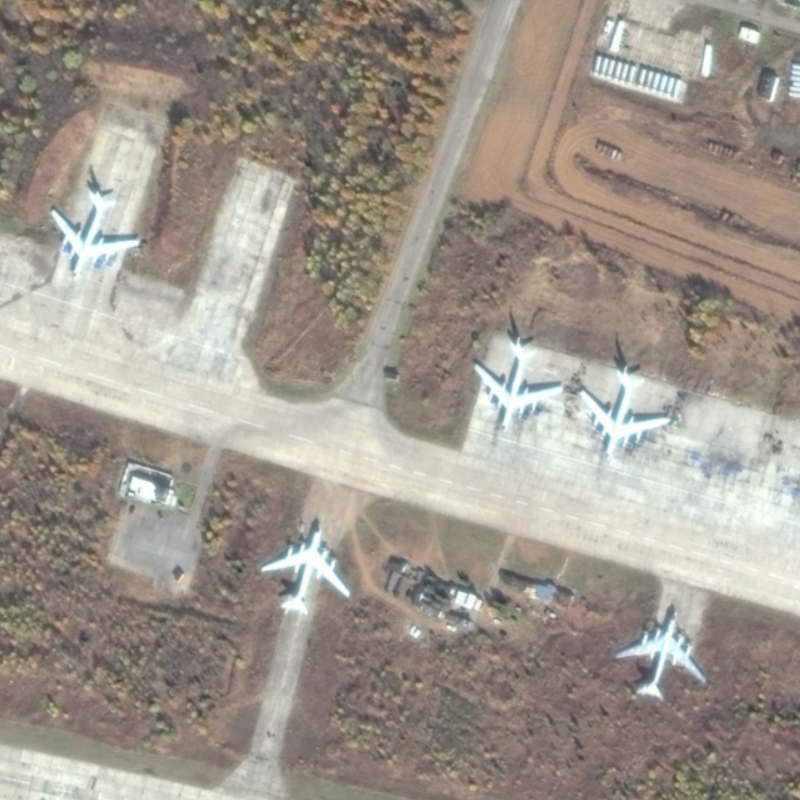A17: (572, 363, 676, 463), (610, 607, 710, 705), (471, 333, 565, 437), (44, 187, 144, 282), (258, 521, 353, 619)
